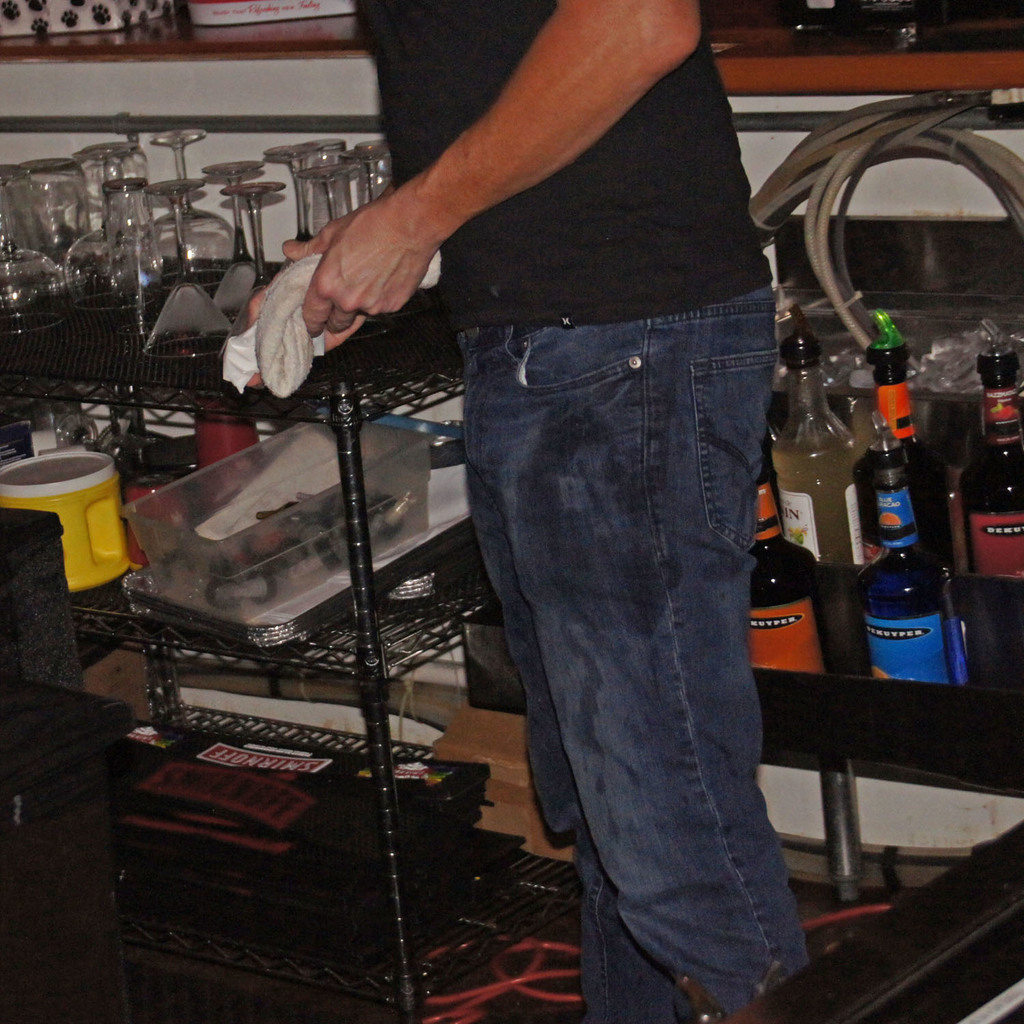Human_hand: (276, 146, 487, 339), (245, 287, 369, 390)
